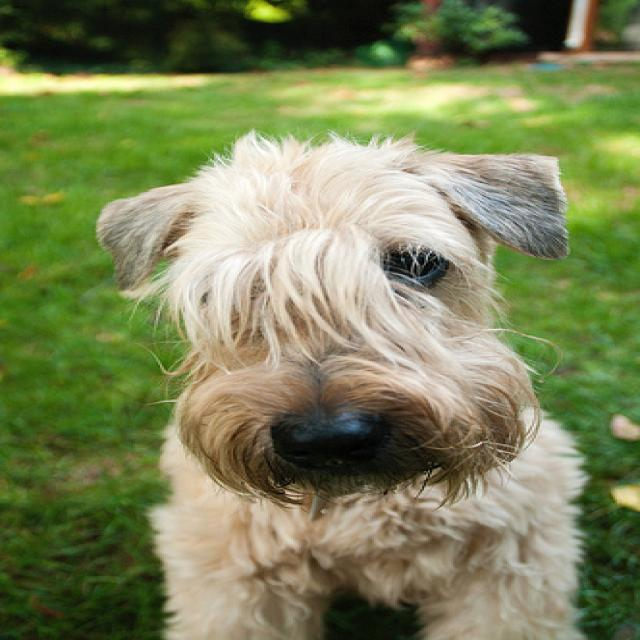dog-wheaten_terrier: (83, 127, 590, 637)
